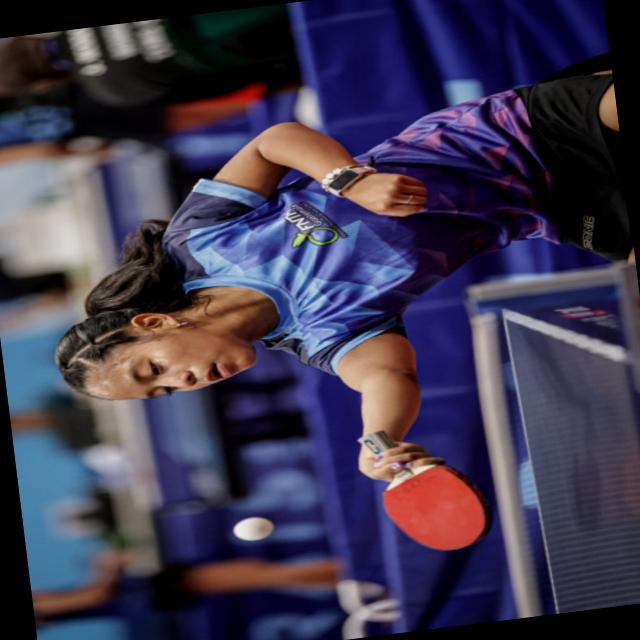TT Net: (464, 260, 640, 620)
TT Racket: (328, 413, 498, 574)
TT Table: (499, 284, 640, 619)
